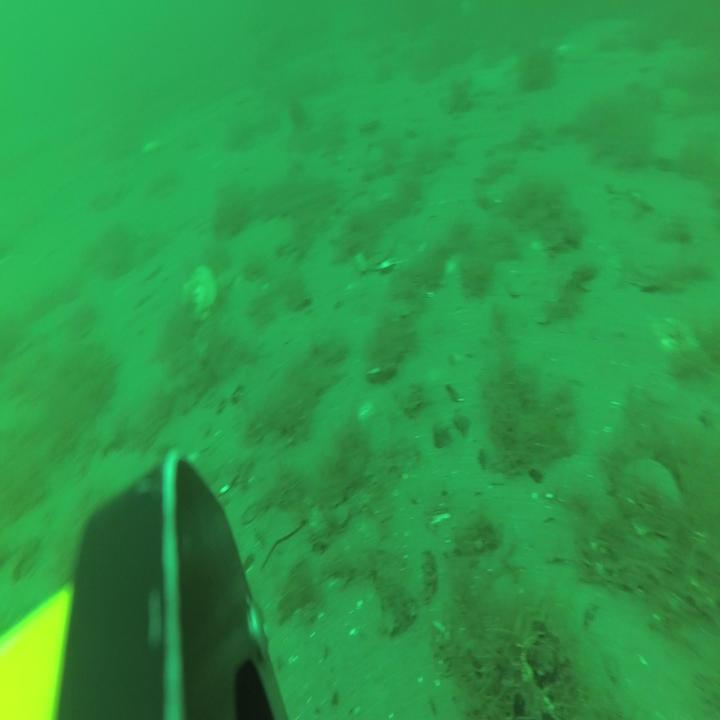scallop: (621, 459, 682, 537), (182, 266, 217, 324), (355, 238, 397, 274), (359, 109, 377, 132)
starfish: (469, 67, 509, 95)
